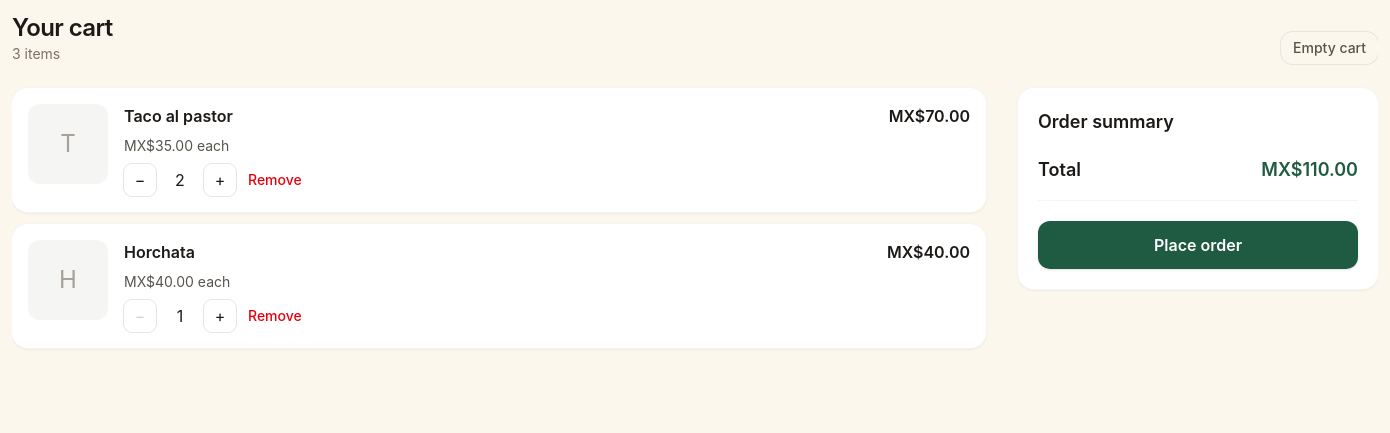
CartPage › explains a 409 at checkout in plain words
Click the button "Place order". click: [1198, 245]
box: [1038,221,1358,269]
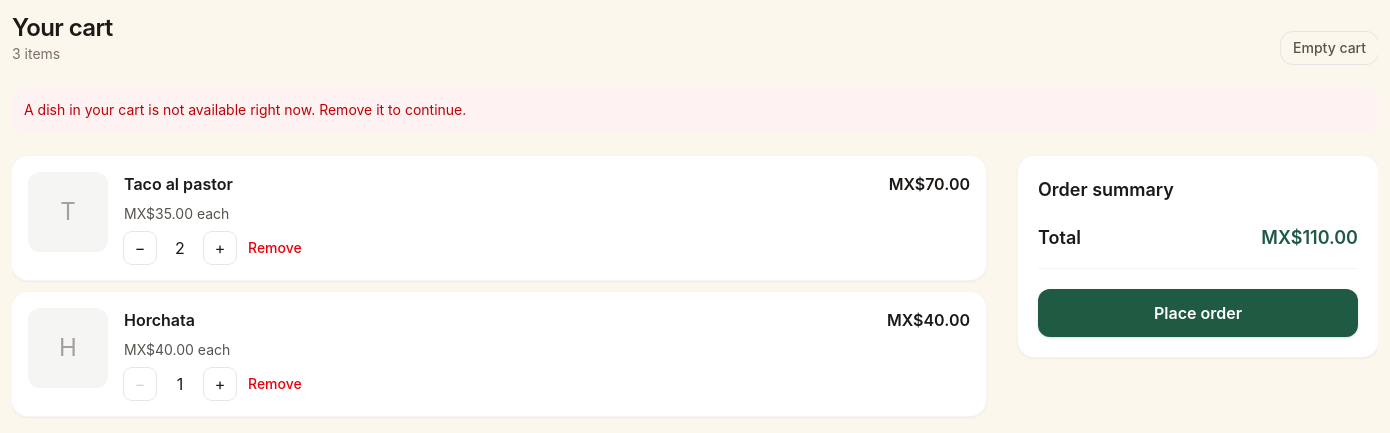
Now the message reads "A dish in your cart is not available right now. Remove it to continue.", box [24,101,466,118]
